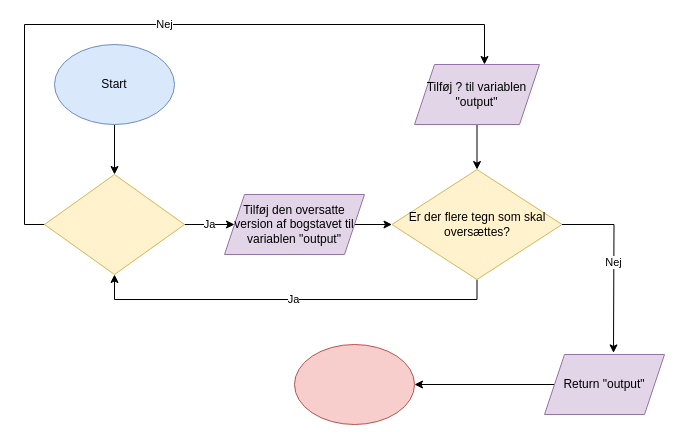
Some shapes in this 682 by 442 pixel diagram are drawn without their labels. Here are the shapes that lost their labels. From the top down, the centre of each, then its label:
point (114, 224): Er bogstavet/tegnet i morsecode dict?
point (354, 384): Slut
